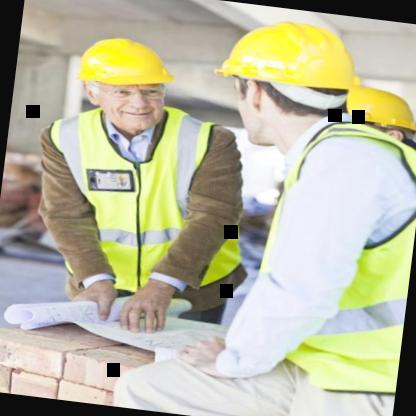helmet: (210, 11, 362, 156), (70, 33, 181, 141), (310, 80, 416, 161)
